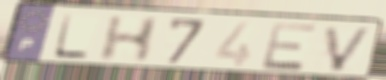4: (211, 20, 255, 69)
7: (166, 16, 209, 66)
E: (259, 21, 321, 73)
H: (96, 15, 164, 64)
L: (50, 12, 93, 61)
V: (323, 25, 376, 74)
